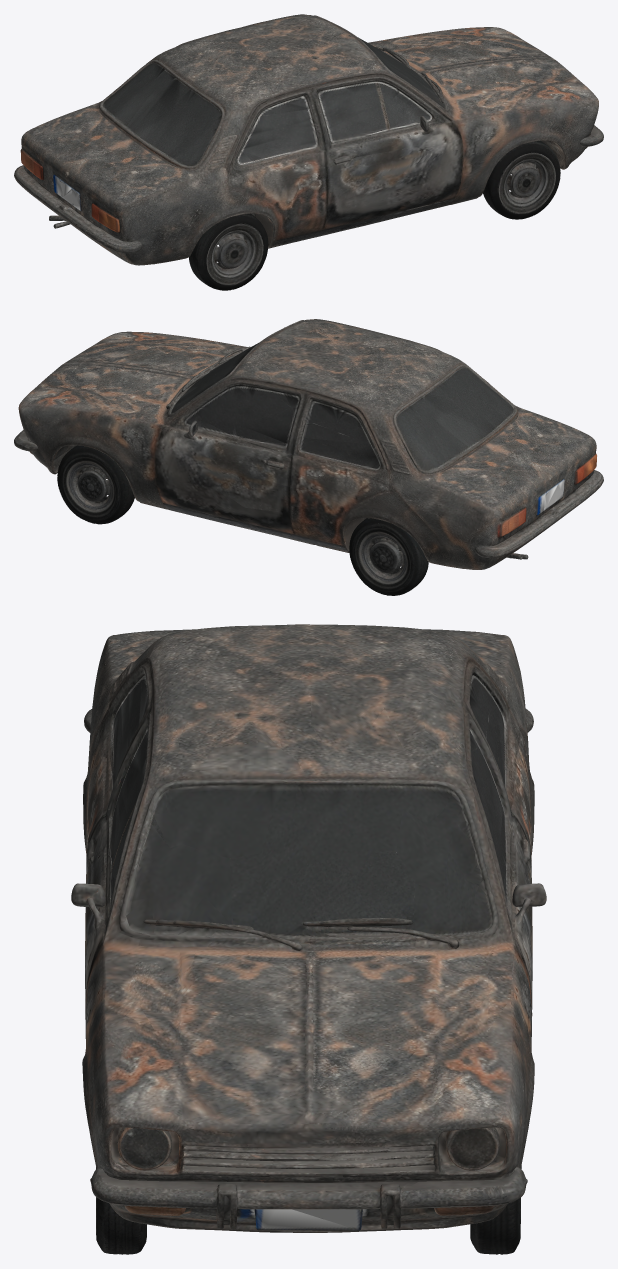
The model's file is lambari-queimado__01a16dcf.glb.
The picture shows the model from 3 angles, top to bottom: view 1: azimuth 30°, elevation 25°; view 2: azimuth 150°, elevation 25°; view 3: azimuth 270°, elevation 25°; orthographic projection. The views are drawn at different scales.
Parts seen in each view (by area): view 1: lambari-queimado; view 2: lambari-queimado; view 3: lambari-queimado.
Boxes of the visible parts, left/top/right/bottom form: lambari-queimado: left=14, top=14, right=603, bottom=290; lambari-queimado: left=14, top=319, right=603, bottom=595; lambari-queimado: left=71, top=624, right=546, bottom=1254.
Bounding box in the file's own units: 4.12 × 1.42 × 1.69.
1 material, 1 textured.
